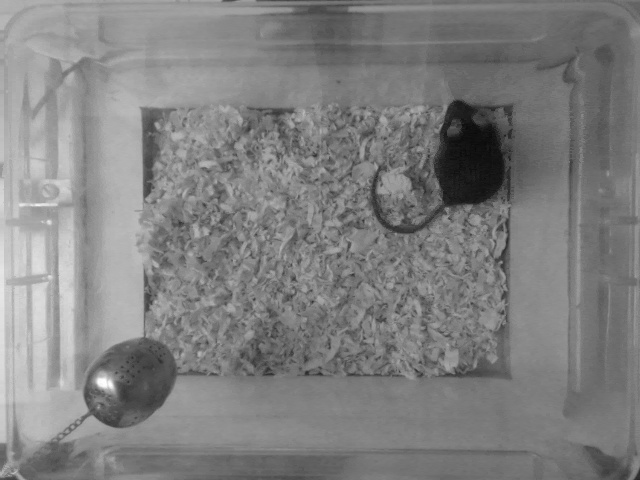mice: (366, 97, 509, 235)
